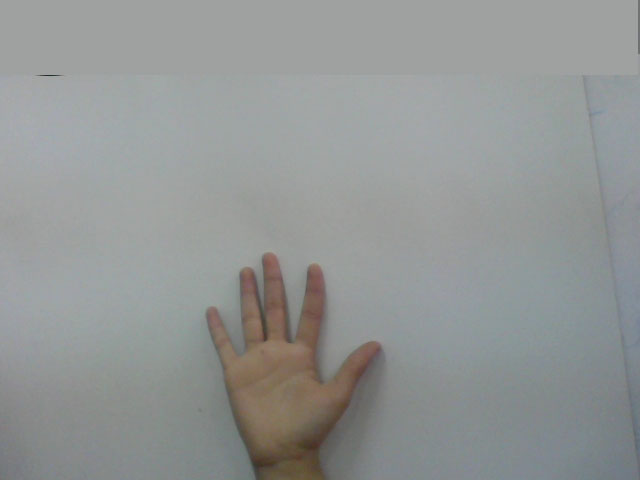hand: (197, 239, 388, 455)
